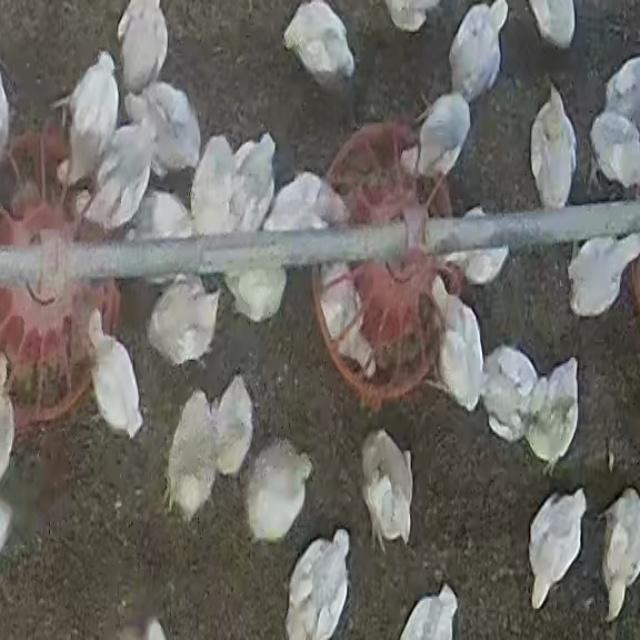chicken: (55, 51, 119, 195), (81, 120, 155, 230), (163, 385, 219, 514), (244, 439, 312, 544), (527, 489, 587, 608), (83, 319, 146, 432), (316, 260, 379, 372), (432, 274, 479, 421), (286, 533, 351, 639), (592, 58, 640, 198), (360, 428, 413, 552), (148, 277, 219, 368), (448, 1, 509, 106), (565, 232, 639, 317), (127, 86, 200, 171), (530, 82, 578, 210), (286, 0, 356, 84), (406, 90, 470, 181), (530, 358, 584, 462), (265, 170, 355, 232), (184, 131, 238, 230), (444, 207, 508, 287), (601, 487, 640, 617), (116, 1, 169, 94), (227, 136, 268, 232), (212, 380, 252, 476), (488, 354, 530, 441), (528, 0, 576, 50)
